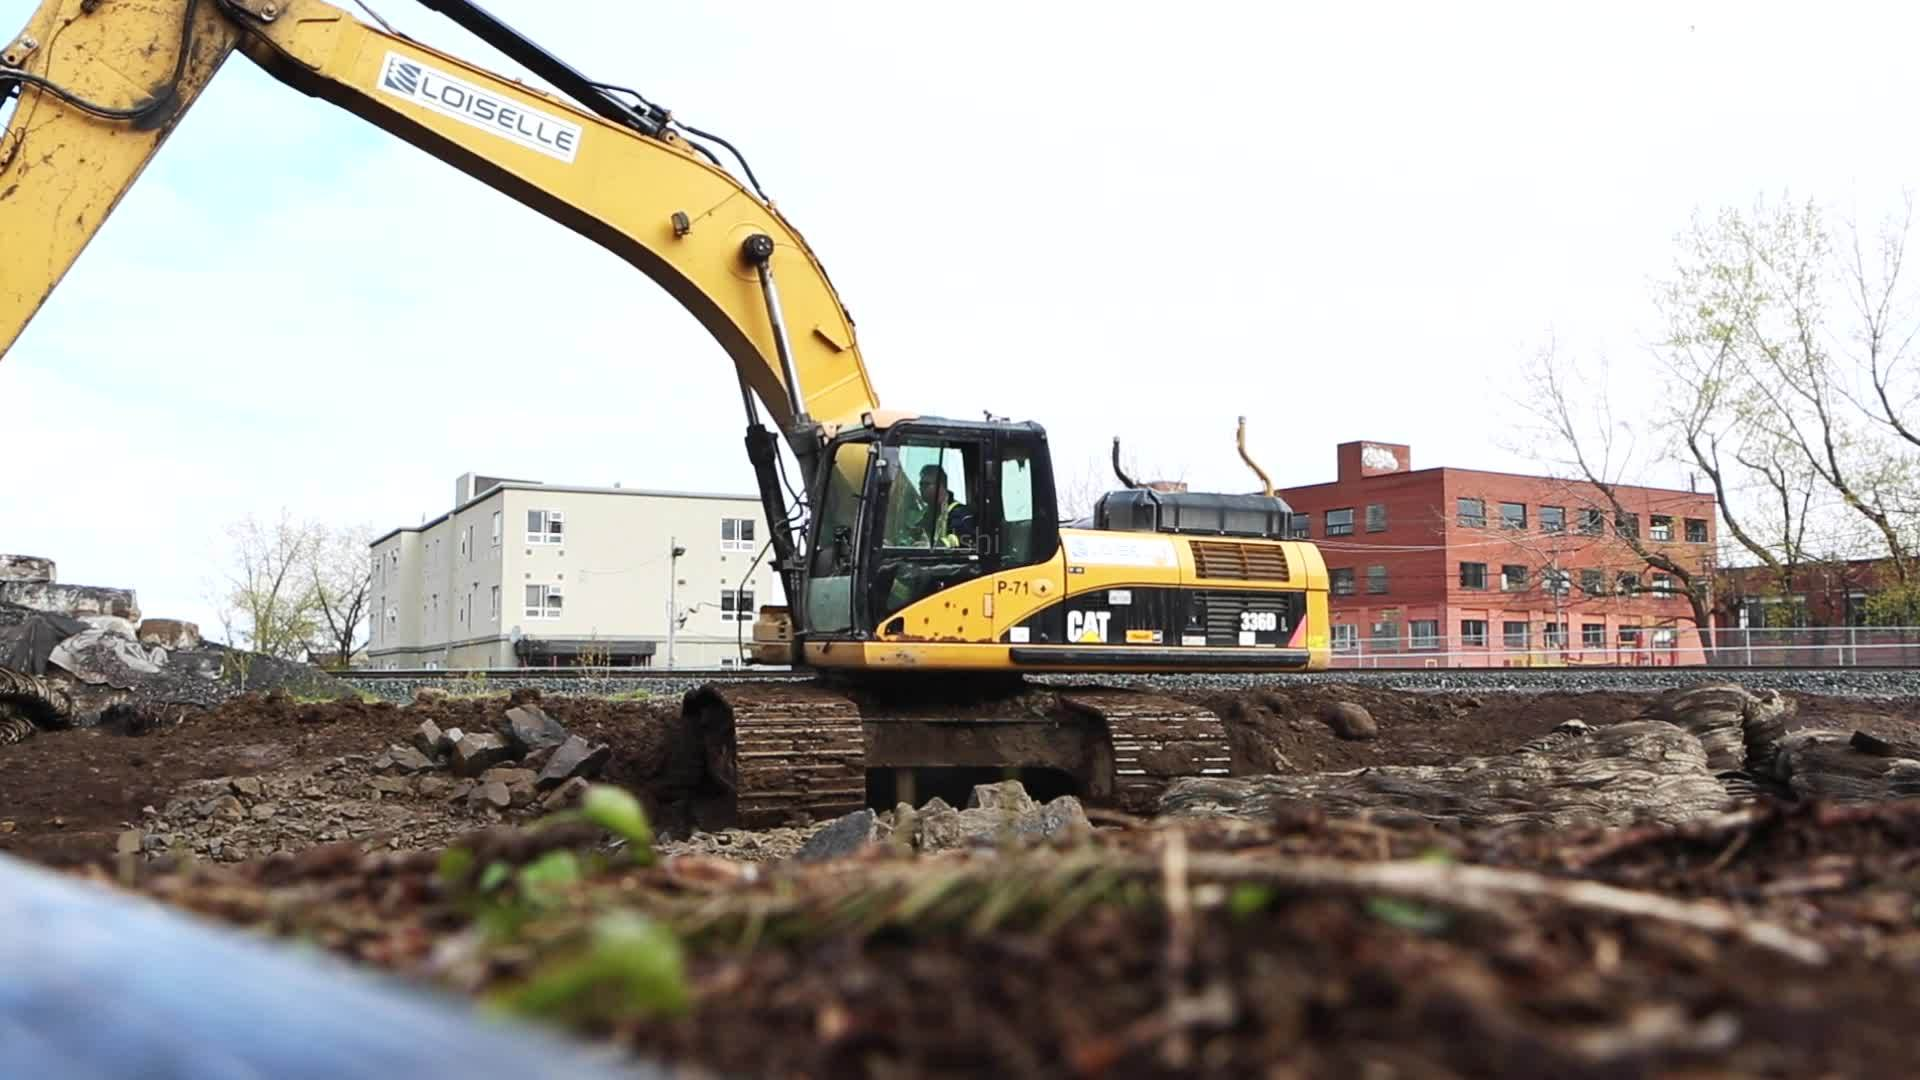excavator: (1, 1, 1358, 849)
